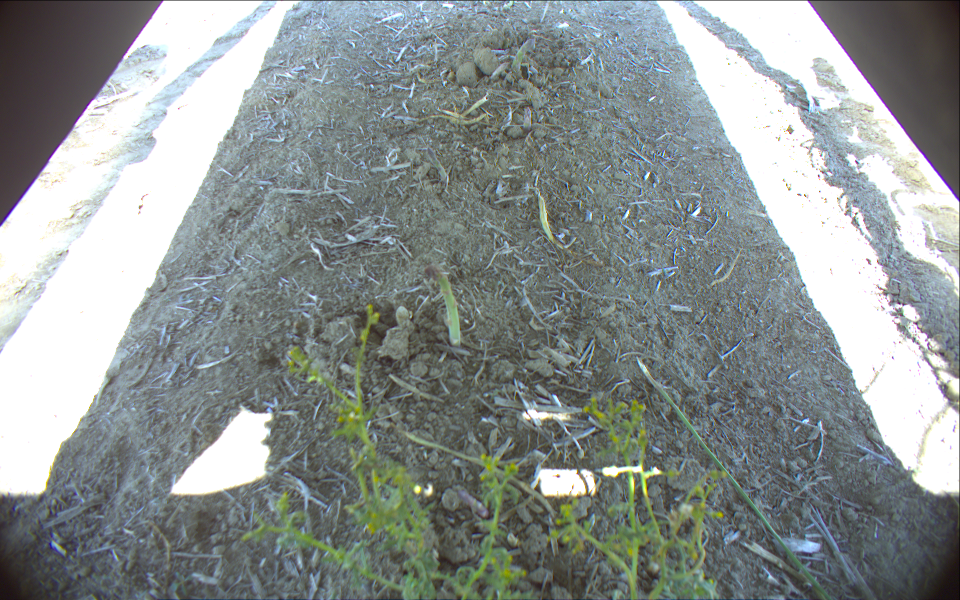aspa: (418, 262, 461, 350), (510, 37, 535, 78)
